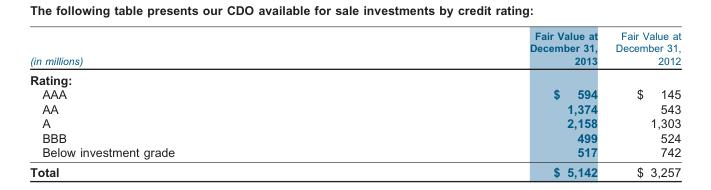table: (29, 29, 680, 159)
table column: (29, 29, 351, 159), (351, 29, 605, 159), (605, 29, 680, 159)
table column header: (29, 29, 680, 69)
table projected row header: (29, 69, 680, 86)
table row: (29, 29, 680, 69), (29, 69, 680, 86), (29, 86, 680, 101), (29, 115, 680, 130), (29, 144, 680, 159), (29, 101, 680, 115), (29, 130, 680, 144)
